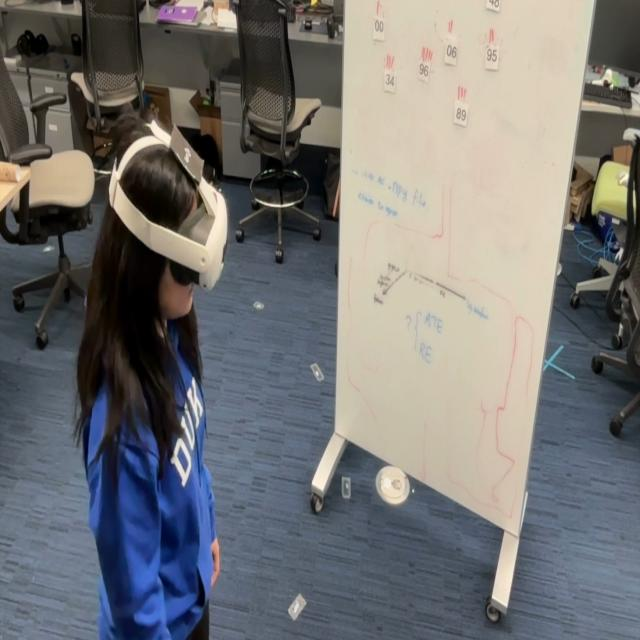Headset: (107, 116, 229, 293)
UnityLogo: (167, 129, 209, 185)
